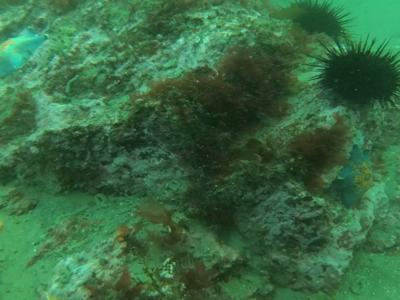urchin: (301, 33, 396, 114), (294, 3, 354, 41)
